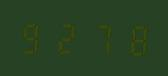eight: (114, 20, 145, 57)
nine: (18, 18, 49, 55)
seven: (82, 19, 113, 56)
two: (50, 19, 81, 55)
